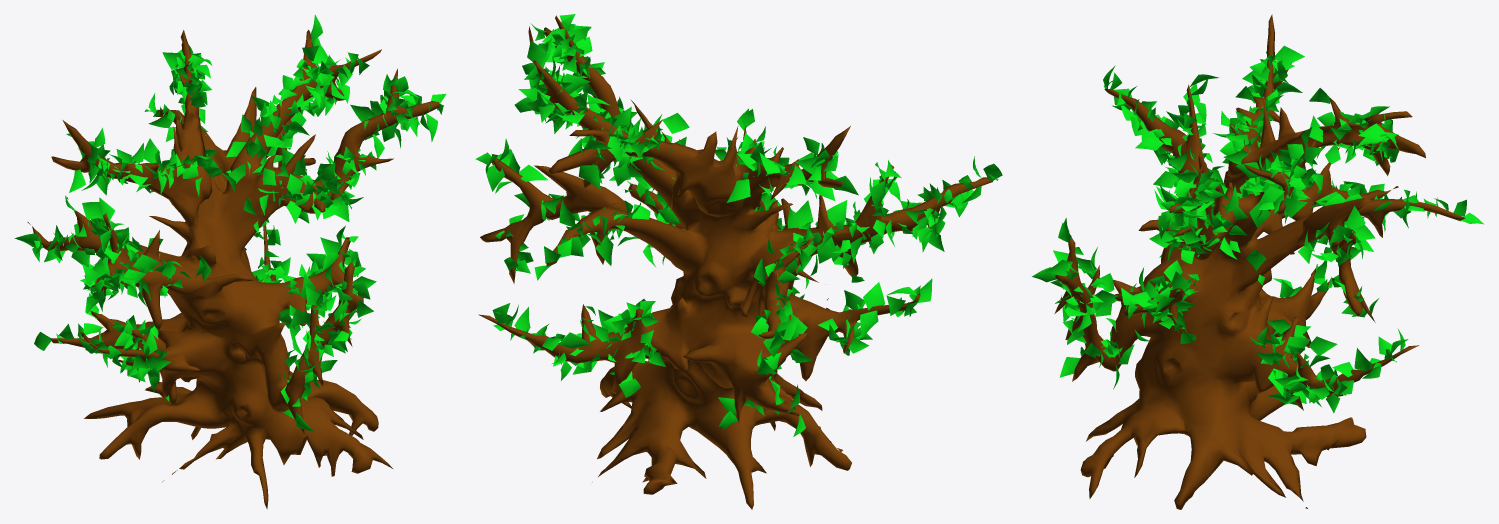
File: albero.fbx
The picture shows the model from 3 angles, left to right: view 1: azimuth 30°, elevation 25°; view 2: azimuth 150°, elevation 25°; view 3: azimuth 270°, elevation 25°; orthographic projection. The views are drawn at different scales.
Parts seen in each view (by area): view 1: Cube; view 2: Cube; view 3: Cube.
Part boxes in pixels (x1,y1,x2,y2): Cube: [27, 30, 438, 509]; Cube: [478, 15, 992, 509]; Cube: [1054, 14, 1465, 509].
Bounding box in the file's own units: 1359 × 1289 × 1287.
